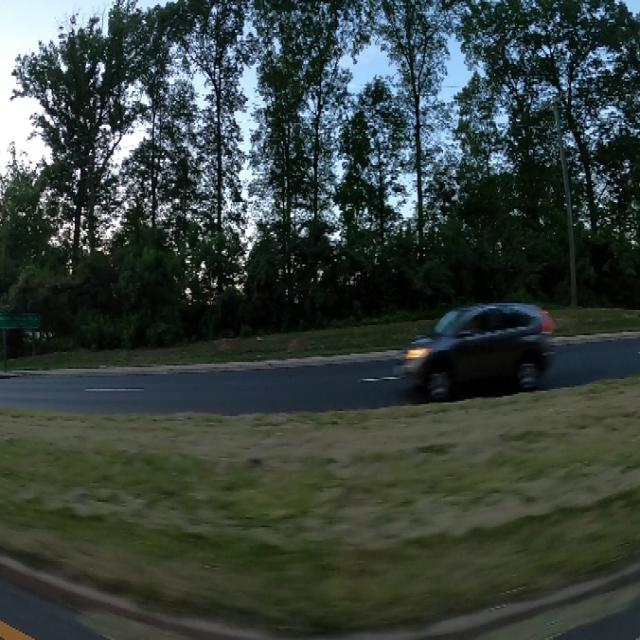cars: (397, 286, 557, 419)
